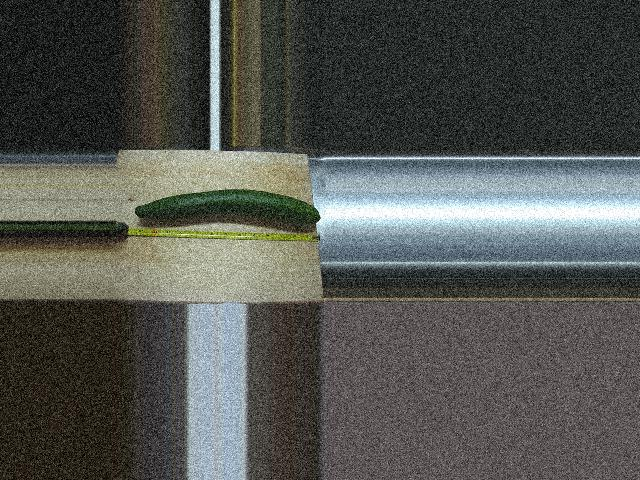cucumber: (134, 189, 320, 225)
